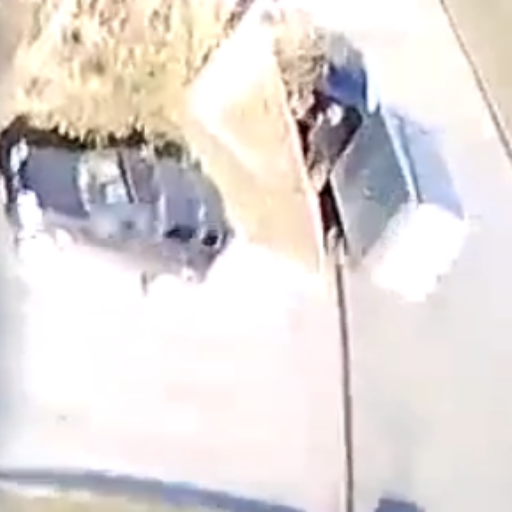Car: (7, 138, 226, 299), (297, 103, 454, 300), (280, 8, 374, 114)
